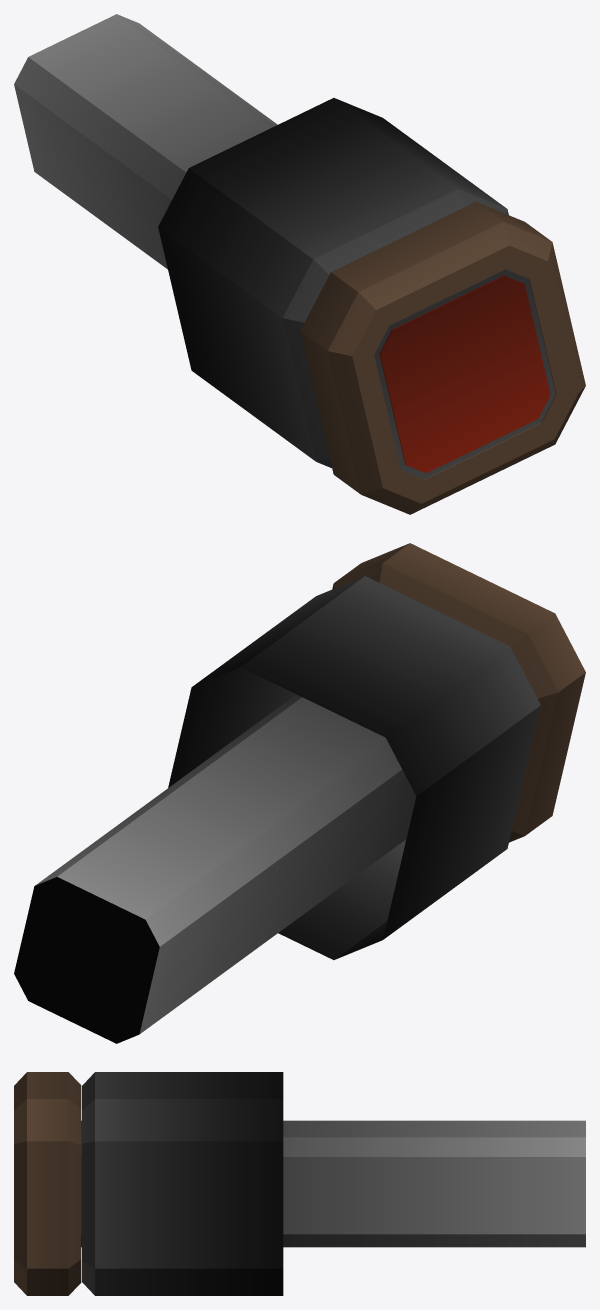
The model's file is puncher.fbx.
The picture shows the model from 3 angles, top to bottom: view 1: azimuth 30°, elevation 25°; view 2: azimuth 150°, elevation 25°; view 3: azimuth 270°, elevation 25°; orthographic projection. The views are drawn at different scales.
Visible parts, largest first — view 1: puncher, punchercase; view 2: puncher, punchercase; view 3: puncher, punchercase.
Boxes of the visible parts, left/top/right/bottom form: puncher: left=14, top=14, right=585, bottom=514; punchercase: left=158, top=98, right=508, bottom=468; puncher: left=14, top=543, right=585, bottom=1043; punchercase: left=168, top=576, right=540, bottom=959; puncher: left=14, top=1072, right=585, bottom=1295; punchercase: left=82, top=1072, right=283, bottom=1295.
Size of the model in its own units: 11.05 by 11.05 by 28.04.
